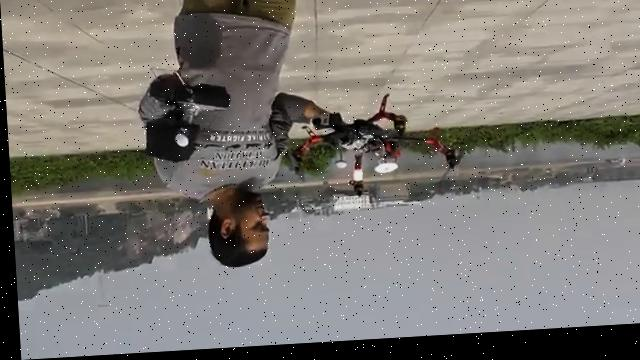drone: (280, 94, 471, 212)
